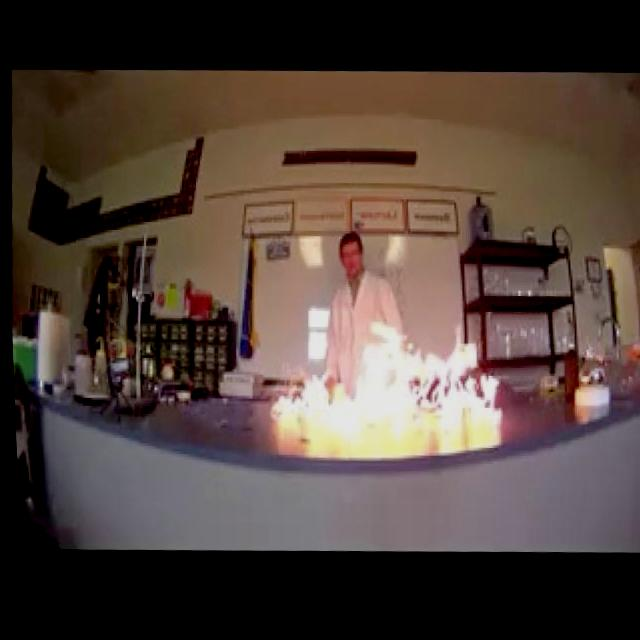Fire: (262, 310, 502, 441)
